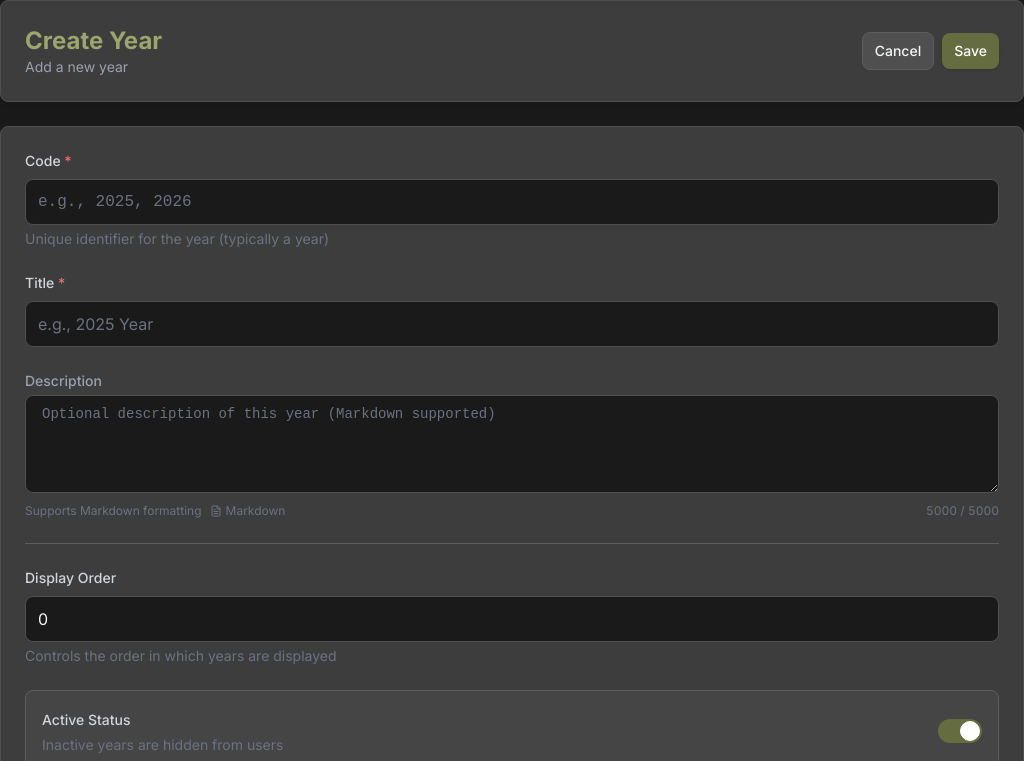
Test: YearForm › Create Mode › validates title field
The width and height of the screenshot is (1024, 761).
In the field with placeholder "e.g., 2025 Year": point(512, 324) x1=25 y1=301 x2=999 y2=347, type "A"
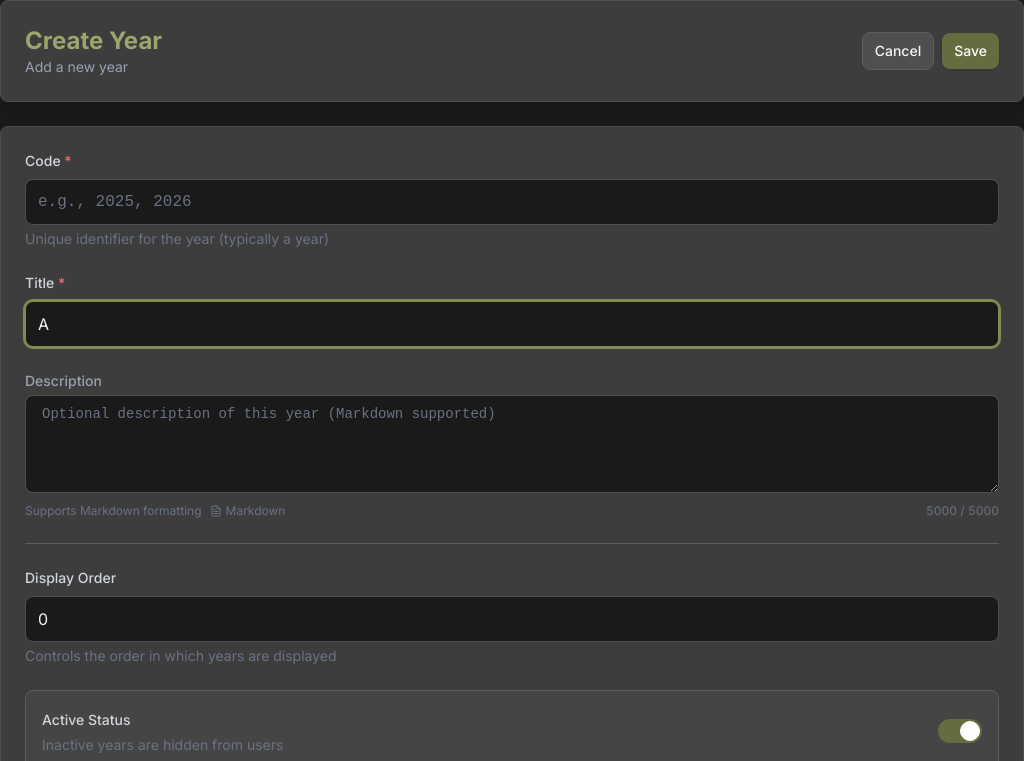
Press Tab
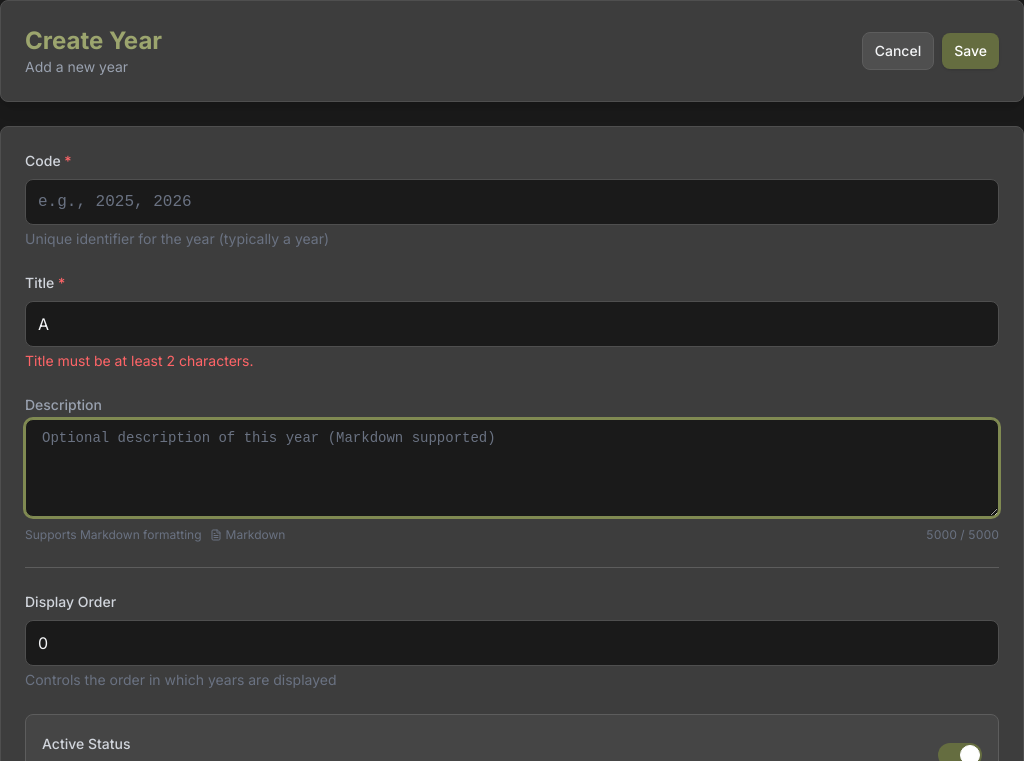
Now the text "Title must be at least 2 characters." is shown, box x1=25 y1=352 x2=254 y2=369
